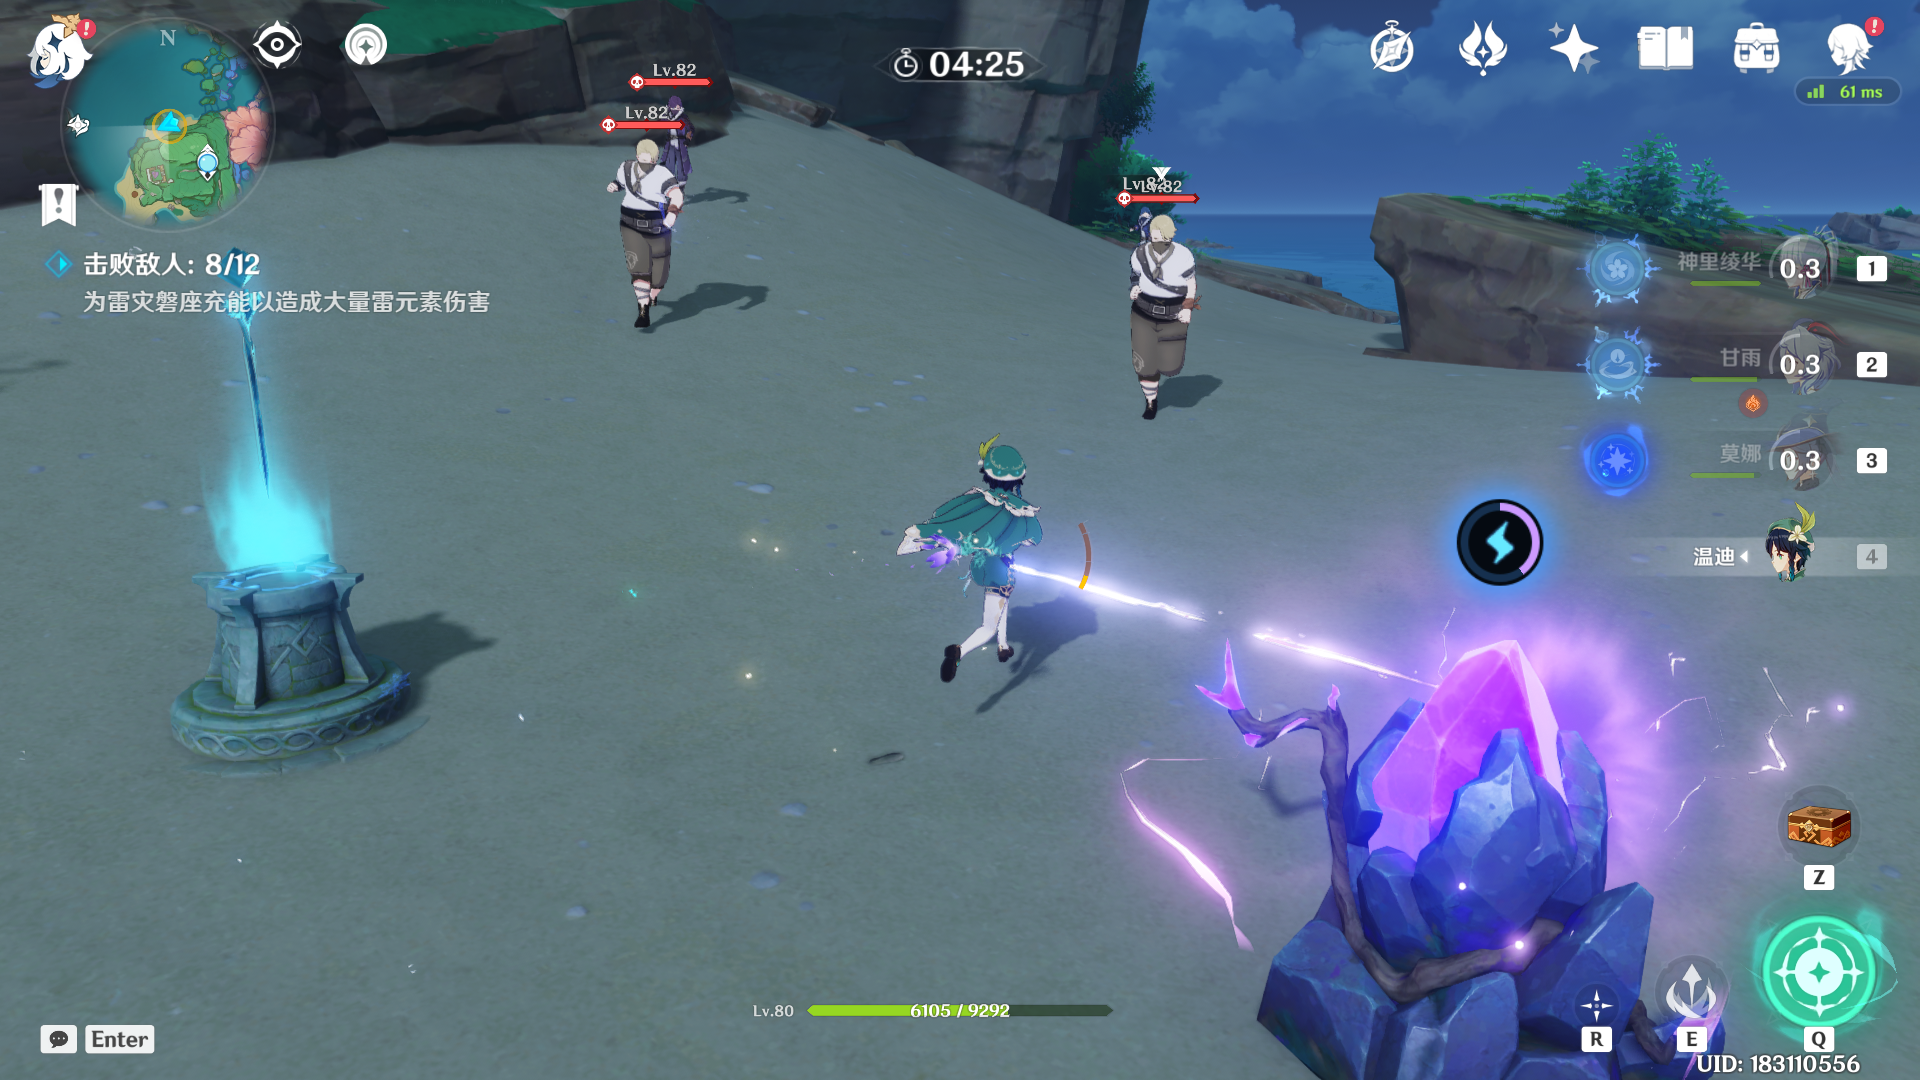character: (866, 411, 1120, 748)
robber: (1102, 198, 1261, 520), (589, 109, 727, 402)
